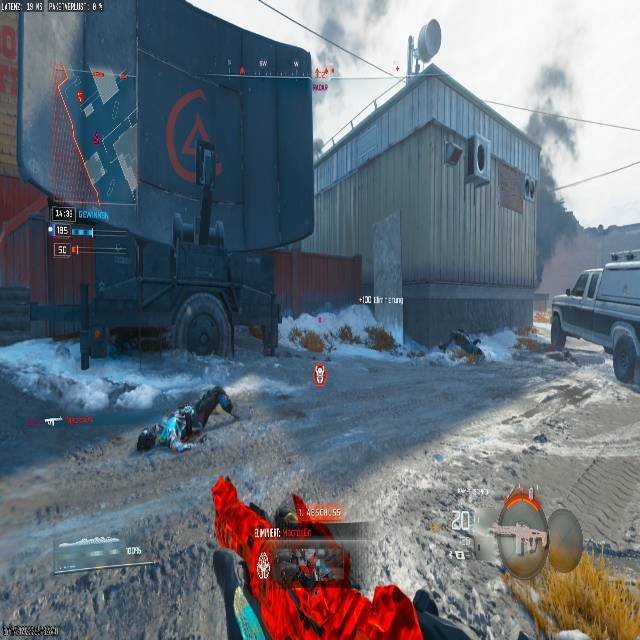head: (136, 428, 156, 451), (470, 348, 483, 363)
